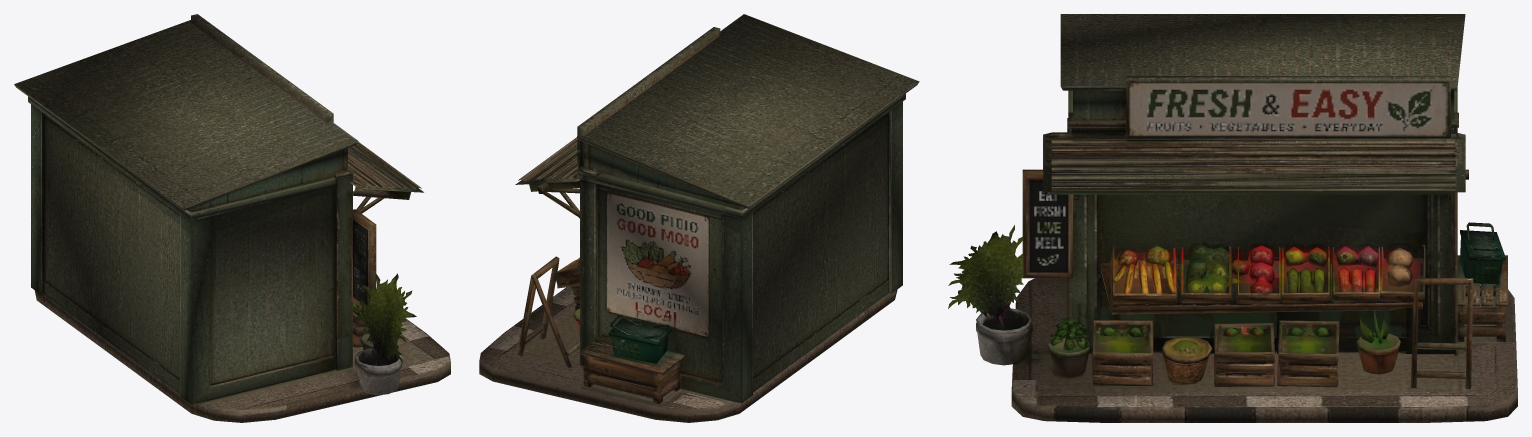
The model's file is market+stall+3d+model.glb.
The picture shows the model from 3 angles, left to right: view 1: azimuth 30°, elevation 25°; view 2: azimuth 150°, elevation 25°; view 3: azimuth 270°, elevation 25°; orthographic projection. The views are drawn at different scales.
Parts seen in each view (by area): view 1: tripo_node_dbd18c23-7e2b-422a-b55c-347d166d12cd; view 2: tripo_node_dbd18c23-7e2b-422a-b55c-347d166d12cd; view 3: tripo_node_dbd18c23-7e2b-422a-b55c-347d166d12cd.
Boxes of the visible parts, x1=… form: tripo_node_dbd18c23-7e2b-422a-b55c-347d166d12cd: x1=14, y1=14, x2=450, y2=422; tripo_node_dbd18c23-7e2b-422a-b55c-347d166d12cd: x1=479, y1=14, x2=919, y2=422; tripo_node_dbd18c23-7e2b-422a-b55c-347d166d12cd: x1=948, y1=14, x2=1517, y2=422.
Size of the model in its own units: 0.6309 by 0.5684 by 0.998.
1 material, 1 textured.
